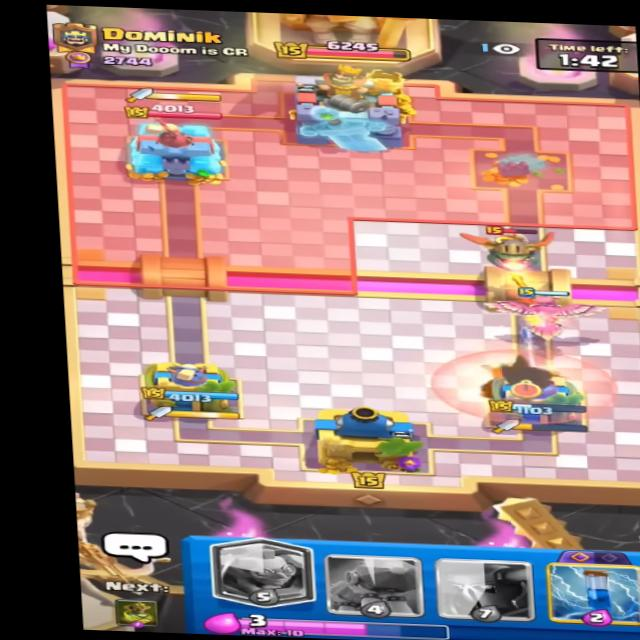inferno-dragon: (459, 212, 561, 274)
